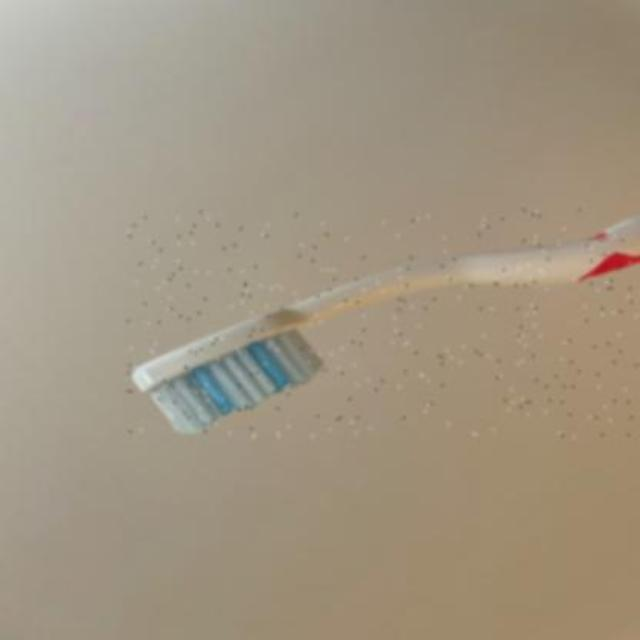toothbrush: (128, 210, 640, 438)
